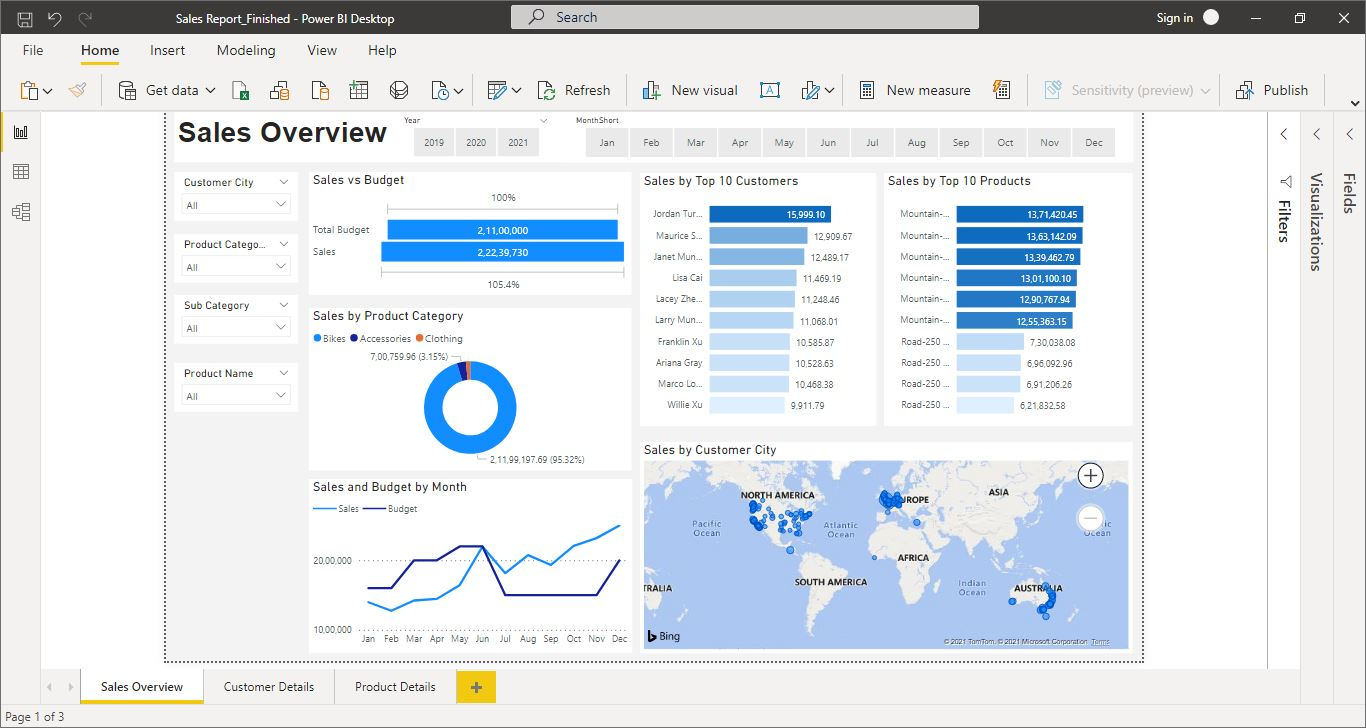

The dashboard page shown, as its layout file describes it:
{"tool":"powerbi","page":{"name":"Sales Overview","canvas":[1280,720],"ordinal":0},"visuals":[{"type":"textbox","box":[10.1,0,1258.2,65.5],"z":0},{"type":"slicer","fields":{"Values":["Customers.Customer City"]},"box":[10.1,79,162.9,63.8],"z":1000},{"type":"slicer","fields":{"Values":["Products.Sub Category"]},"box":[10.1,240.2,162.9,63.8],"z":2000},{"type":"slicer","fields":{"Values":["Products.Product Category"]},"box":[10.1,159.6,162.9,63.8],"z":3000},{"type":"slicer","fields":{"Values":["Products.Product Name"]},"box":[10.1,329.2,162.9,63.8],"z":4000},{"type":"slicer","fields":{"Values":["Calendar.Year"]},"box":[298.7,0,213.5,64.9],"z":5000},{"type":"slicer","fields":{"Values":["Calendar.MonthShort"]},"box":[524.1,0,744.1,65.5],"z":6000},{"type":"funnel","title":"Sales vs Budget","fields":{"Y":["Budget.Total Budget","InternetSales.Sales"]},"box":[188.1,79,423.3,161.3],"z":7000},{"type":"donutChart","fields":{"Y":["Key Measures.Sales"],"Category":["Products.Product Category"]},"box":[188.1,257,423.3,213.3],"z":8000},{"type":"lineChart","title":"Sales and Budget by Month","fields":{"Y":["Key Measures.Sales","Key Measures.Total Budget"],"Category":["Calendar.MonthShort"]},"box":[187.6,481.9,424.2,228],"z":9000},{"type":"clusteredBarChart","title":"Sales by Top 10 Customers","fields":{"Y":["Key Measures.Sales"],"Category":["Customers.Full Name"]},"box":[621.9,79.4,310.2,331.9],"z":10000},{"type":"clusteredBarChart","title":"Sales by Top 10 Products","fields":{"Y":["Key Measures.Sales"],"Category":["Products.Product Name"]},"box":[942.2,79.4,326.1,331.9],"z":11000},{"type":"map","fields":{"Category":["Customers.Customer City"],"Size":["Key Measures.Sales"]},"box":[621.9,432.9,646.4,277],"z":12000}]}

Visuals, with their boxes on the page's 1280x720 design canvas (x1, y1, x2, y2). These are canvas units, not pixel positions in the 1366x728 screenshot, which may show the page scaled, cropped or inside an application window:
textbox: BBox(10, 0, 1268, 66)
slicer - Customers.Customer City: BBox(10, 79, 173, 143)
slicer - Products.Sub Category: BBox(10, 240, 173, 304)
slicer - Products.Product Category: BBox(10, 160, 173, 223)
slicer - Products.Product Name: BBox(10, 329, 173, 393)
slicer - Calendar.Year: BBox(299, 0, 512, 65)
slicer - Calendar.MonthShort: BBox(524, 0, 1268, 66)
"Sales vs Budget" funnel: BBox(188, 79, 611, 240)
donutChart - Key Measures.Sales x Products.Product Category: BBox(188, 257, 611, 470)
"Sales and Budget by Month" lineChart: BBox(188, 482, 612, 710)
"Sales by Top 10 Customers" clusteredBarChart: BBox(622, 79, 932, 411)
"Sales by Top 10 Products" clusteredBarChart: BBox(942, 79, 1268, 411)
map - Customers.Customer City x Key Measures.Sales: BBox(622, 433, 1268, 710)
